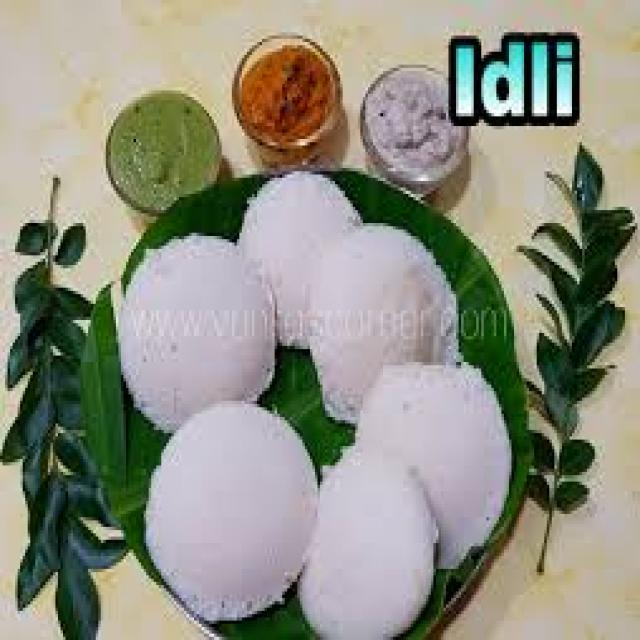IDLI: (149, 401, 315, 621), (360, 365, 509, 566), (121, 233, 272, 430), (305, 223, 456, 417), (297, 443, 436, 637), (239, 171, 360, 317)
